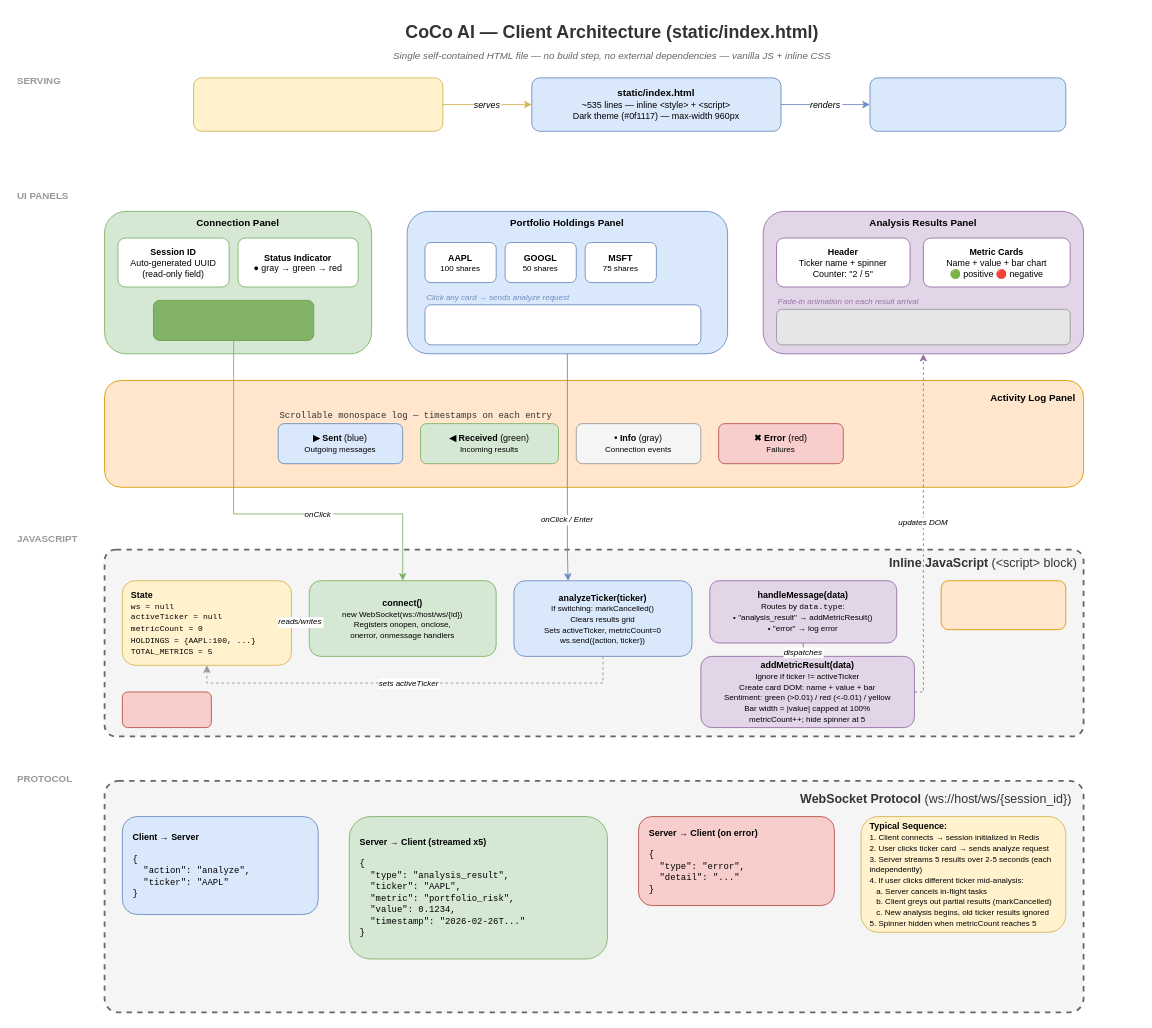
Some shapes in this 1152 by 1028 pixel diagram are drawn without their labels. Here are the shapes that lost their labels. From the top down, the centre of each, then its label:
At [318,104]: "FastAPI GET / → FileResponse(static/index.html) /static mounted via StaticFiles".
At [967,104]: "Browser No frameworks, no npm Works offline after first load".
At [233,319]: "Connect / Disconnect Toggles WebSocket".
At [562,324]: "Custom Ticker Input Text field + Analyze button (Enter key supported)".
At [923,326]: "Cancel-on-switch Previous results greyed out Grid cleared for new ticker".
At [1003,605]: "log(level, text) Appends timestamped entry Color-coded by level".
At [166,709]: "disconnect() ws.close()".
